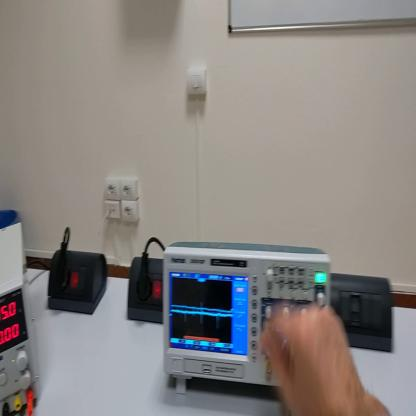hand: (261, 302, 364, 416)
oscilloscope: (166, 243, 337, 413)
power supply: (1, 222, 39, 416)
socket: (49, 247, 109, 316), (127, 257, 165, 328)
